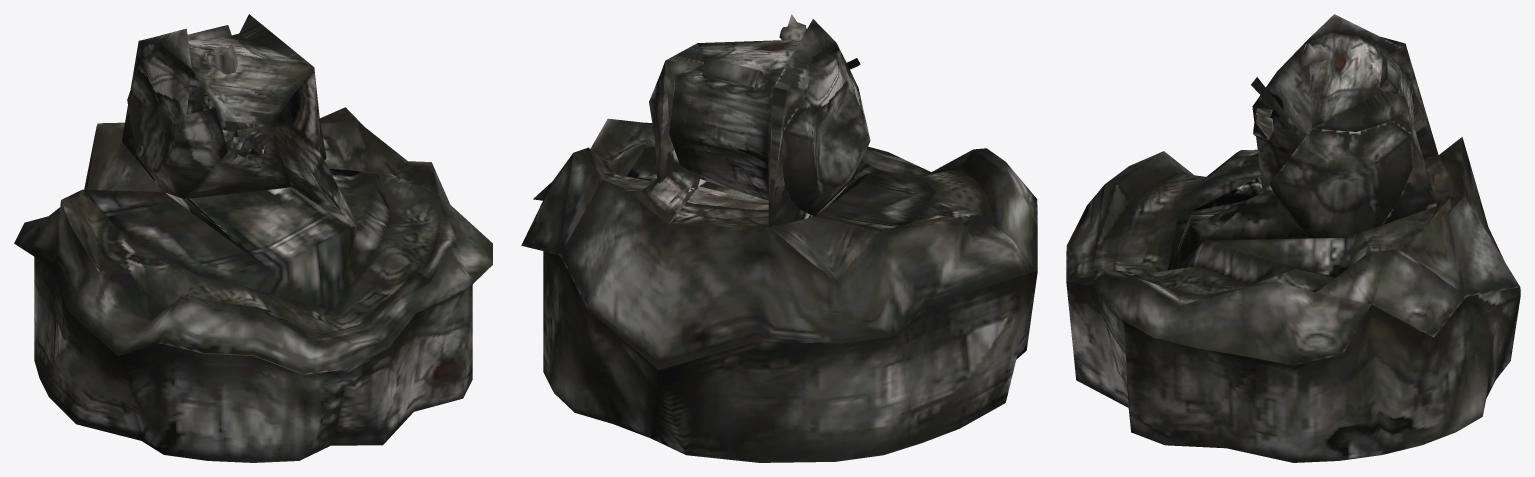
File: corellian_corvette_turret_large_base_s01_destroyed_l0.fbx
3 views of the same model, side by side, from view 1: azimuth 30°, elevation 25°; view 2: azimuth 150°, elevation 25°; view 3: azimuth 270°, elevation 25° (orthographic). The views are drawn at different scales.
Visible parts, largest first — view 1: mesh_node; view 2: mesh_node; view 3: mesh_node.
Boxes of the visible parts, box(x1,y1,x2,y2) form: mesh_node: box(14, 14, 492, 462); mesh_node: box(521, 14, 1037, 462); mesh_node: box(1066, 14, 1520, 462).
Bounding box in the file's own units: 14.92 × 11.98 × 14.76.
